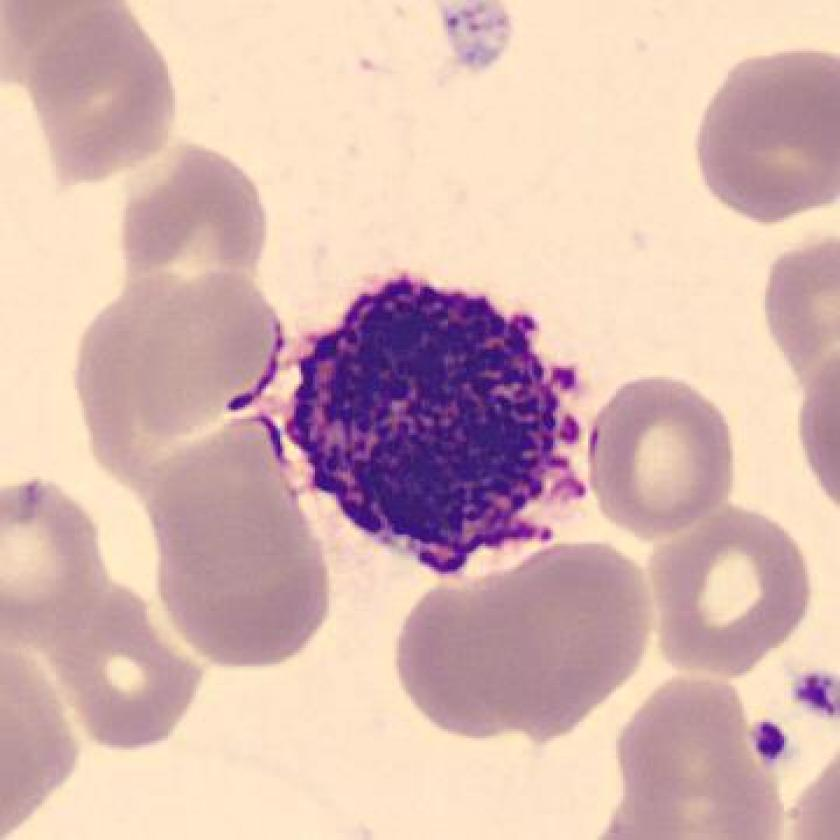basophil: (267, 258, 587, 582)
